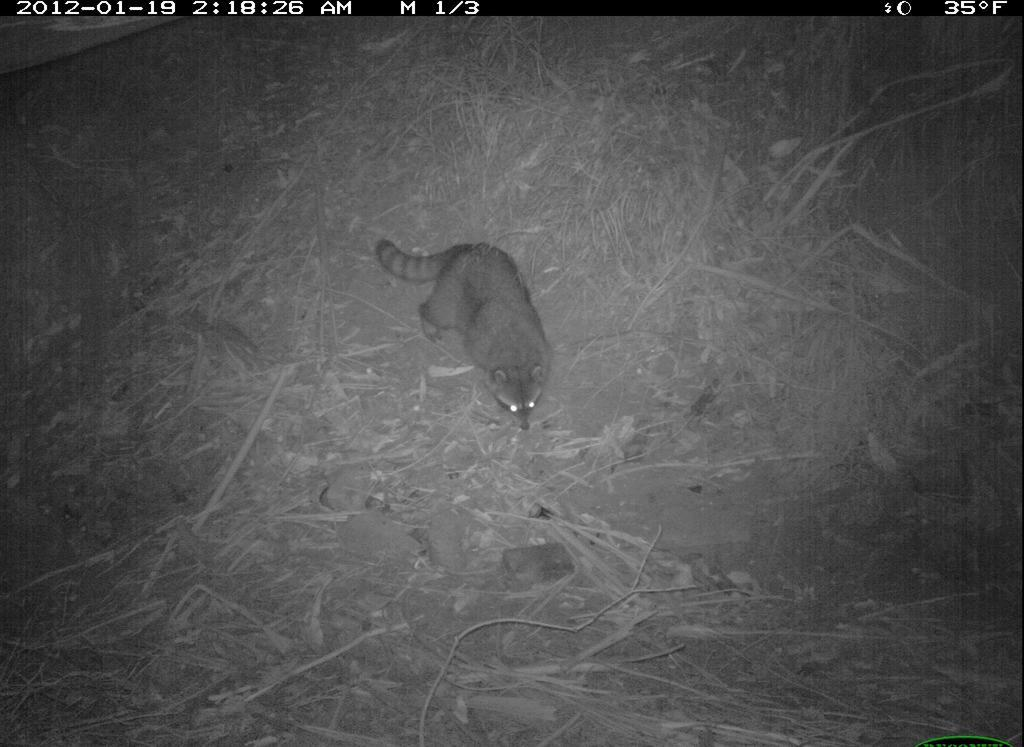raccoon: (351, 199, 583, 460)
